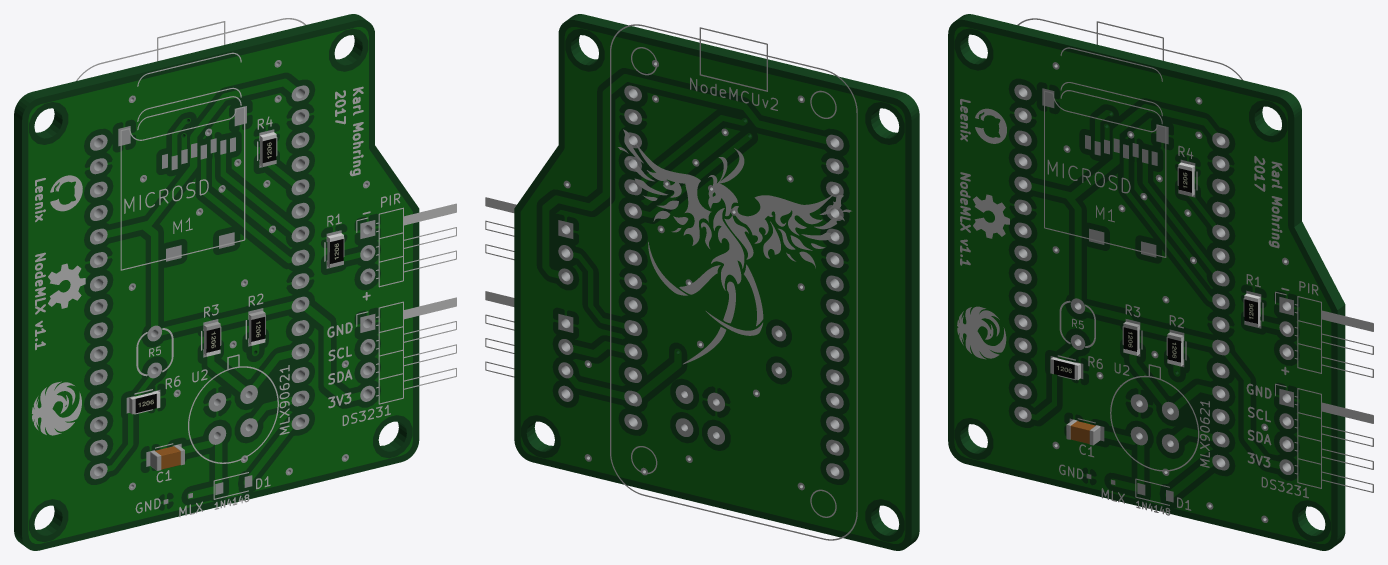
Rendered from NodeMLX.dae.
3 views of the same model, side by side, from view 1: azimuth 30°, elevation 25°; view 2: azimuth 150°, elevation 25°; view 3: azimuth 330°, elevation 25° (orthographic). The views are drawn at different scales.
Parts seen in each view (by area): view 1: node; view 2: node; view 3: node.
Part boxes in pixels (box(x1,y1,x2,y2)): node: box(14, 14, 456, 550); node: box(485, 14, 919, 550); node: box(948, 14, 1373, 550).
Bounding box in the file's own units: 49.23 × 52.22 × 3.07.
